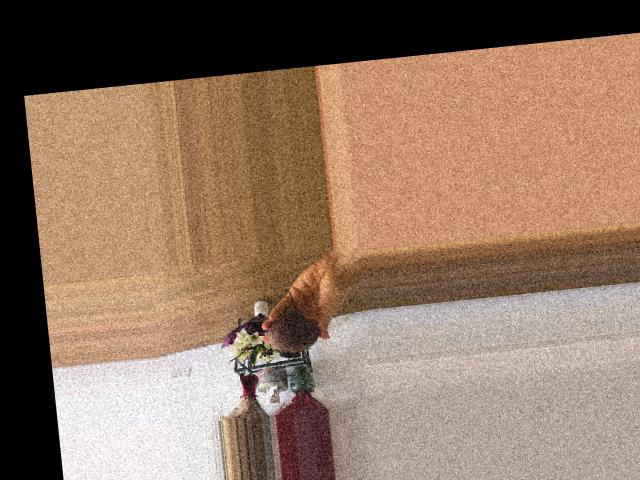beet: (262, 286, 320, 360)
